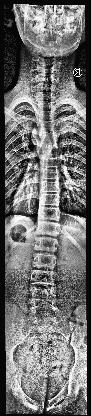Vertebrae: (24, 270, 64, 284), (26, 254, 64, 268), (28, 238, 66, 252), (26, 287, 64, 299), (27, 302, 63, 314), (32, 222, 66, 234), (33, 208, 67, 219), (37, 181, 65, 191), (36, 157, 64, 167), (38, 169, 64, 179), (37, 133, 63, 143), (37, 196, 67, 204), (36, 100, 59, 110), (38, 121, 60, 131), (38, 146, 64, 154), (36, 110, 58, 119)
